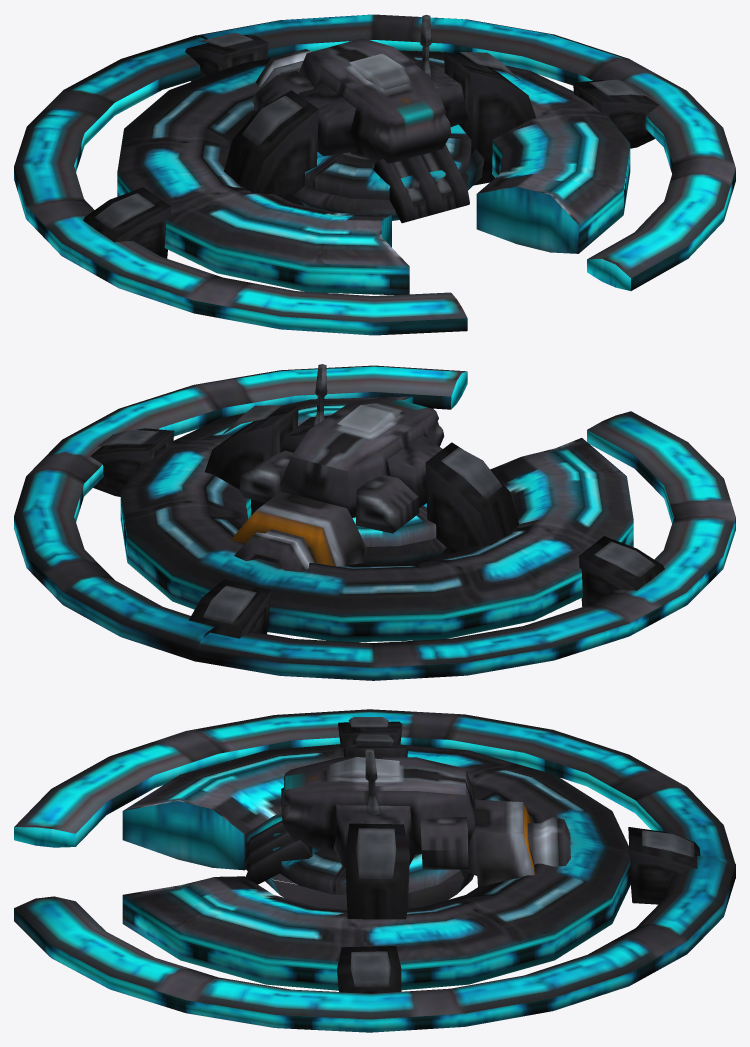
Rendered from ts_xgcj001.FBX.
The picture shows the model from 3 angles, top to bottom: view 1: azimuth 30°, elevation 25°; view 2: azimuth 150°, elevation 25°; view 3: azimuth 270°, elevation 25°; orthographic projection.
Parts seen in each view (by area): view 1: ts_xgcj001; view 2: ts_xgcj001; view 3: ts_xgcj001.
Part boxes in pixels (box(x1,y1,x2,y2)): ts_xgcj001: box(14, 14, 735, 335); ts_xgcj001: box(14, 364, 735, 680); ts_xgcj001: box(14, 709, 735, 1032).
Size of the model in its own units: 0.5266 by 0.1444 by 0.5179.
